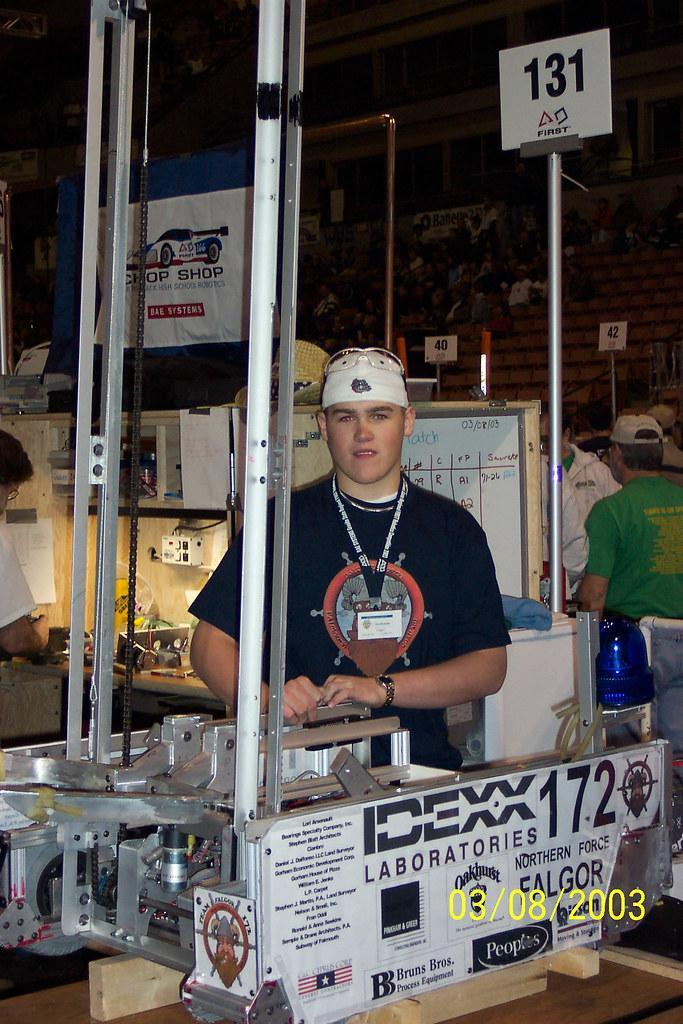robot: (0, 0, 678, 1022)
